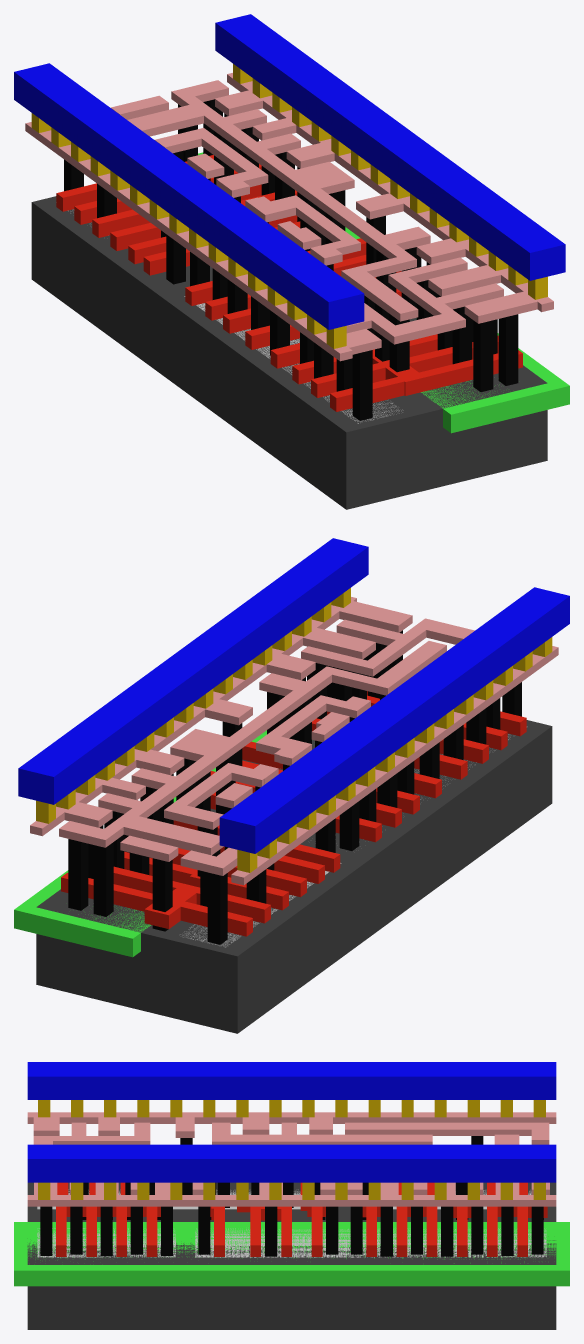
The model's file is sky130_fd_sc_hd__o2111a_4.obj.
3 views of the same model, one above another, from view 1: azimuth 30°, elevation 25°; view 2: azimuth 150°, elevation 25°; view 3: azimuth 270°, elevation 25° (orthographic). The views are drawn at different scales.
Visible parts, largest first — view 1: subs, metal1, li, licon, poly, mcon, nwell, diff; view 2: subs, metal1, li, licon, poly, mcon, nwell; view 3: metal1, subs, li, nwell, licon, poly, mcon, tap, diff.
Boxes of the visible parts, <box> form: subs: <box>31,196,547,509</box>; metal1: <box>14,14,565,329</box>; li: <box>25,73,553,361</box>; licon: <box>64,99,518,420</box>; poly: <box>56,155,522,411</box>; mcon: <box>31,64,547,348</box>; nwell: <box>198,152,569,433</box>; diff: <box>68,209,403,423</box>; subs: <box>36,720,552,1033</box>; metal1: <box>18,538,569,853</box>; li: <box>30,597,558,885</box>; licon: <box>68,630,521,944</box>; poly: <box>61,691,526,936</box>; mcon: <box>36,588,552,872</box>; nwell: <box>14,730,266,957</box>; metal1: <box>27,1062,556,1182</box>; subs: <box>27,1182,556,1329</box>; li: <box>27,1112,556,1206</box>; nwell: <box>14,1222,569,1286</box>; licon: <box>40,1136,543,1256</box>; poly: <box>56,1182,547,1256</box>; mcon: <box>38,1100,545,1199</box>; tap: <box>37,1228,546,1257</box>; diff: <box>37,1189,531,1209</box>.
Size of the model in its own units: 3.2 by 2.74 by 7.74.
